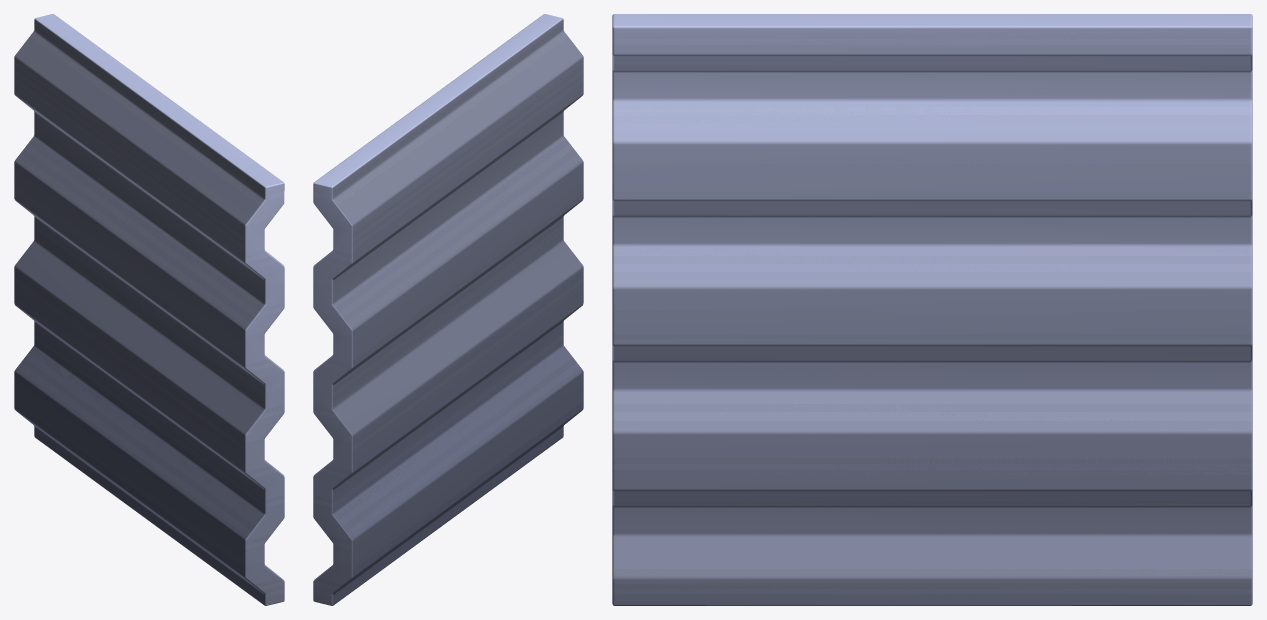
File: plating.glb
3 views of the same model, side by side, from view 1: azimuth 30°, elevation 25°; view 2: azimuth 150°, elevation 25°; view 3: azimuth 270°, elevation 25° (orthographic). The views are drawn at different scales.
Parts seen in each view (by area): view 1: plating; view 2: plating; view 3: plating.
Boxes of the visible parts, x1=… form: plating: x1=14, y1=14, x2=284, y2=605; plating: x1=313, y1=14, x2=583, y2=605; plating: x1=612, y1=14, x2=1252, y2=605.
Bounding box in the file's own units: 0.1 × 1 × 1.
Materials: 1 (1 with a texture image).
